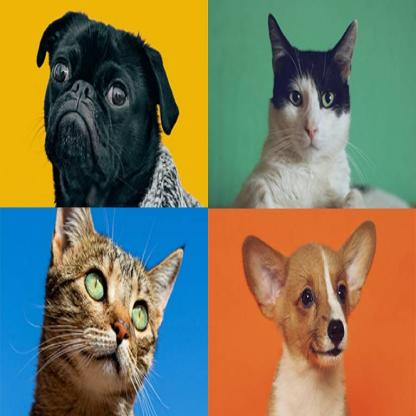cat: (20, 213, 200, 416), (225, 2, 393, 195)
dog: (225, 218, 409, 406), (26, 7, 204, 199)
